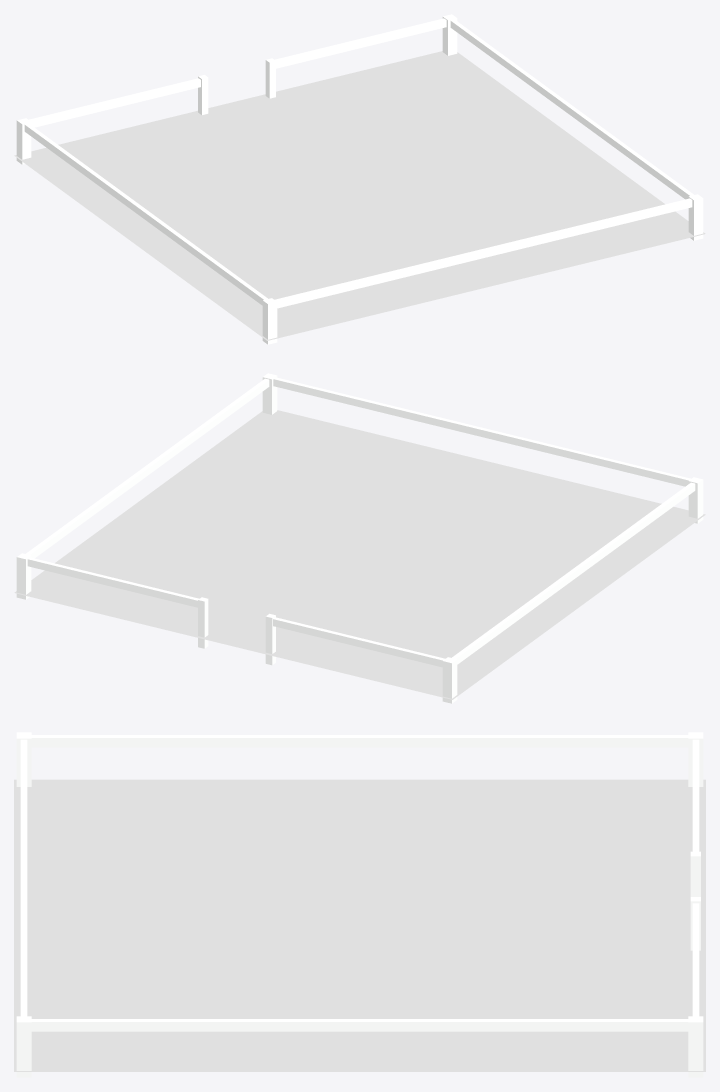
File: tile_for_home_1x1.007.glb
The picture shows the model from 3 angles, top to bottom: view 1: azimuth 30°, elevation 25°; view 2: azimuth 150°, elevation 25°; view 3: azimuth 270°, elevation 25°; orthographic projection. The views are drawn at different scales.
Visible parts, largest first — view 1: tile_for_home_1x1.007(Clone); view 2: tile_for_home_1x1.007(Clone); view 3: tile_for_home_1x1.007(Clone).
Boxes of the visible parts, x1,y1,x2,y2 form: tile_for_home_1x1.007(Clone): (14,14,705,344); tile_for_home_1x1.007(Clone): (14,373,705,703); tile_for_home_1x1.007(Clone): (14,732,705,1077).
Size of the model in its own units: 8 by 0.8235 by 8.
Materials: 1 (1 with a texture image).
